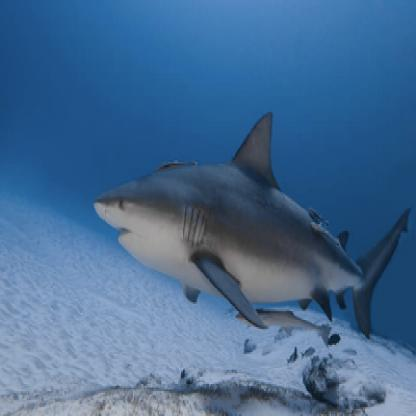shark: (86, 102, 416, 353)
